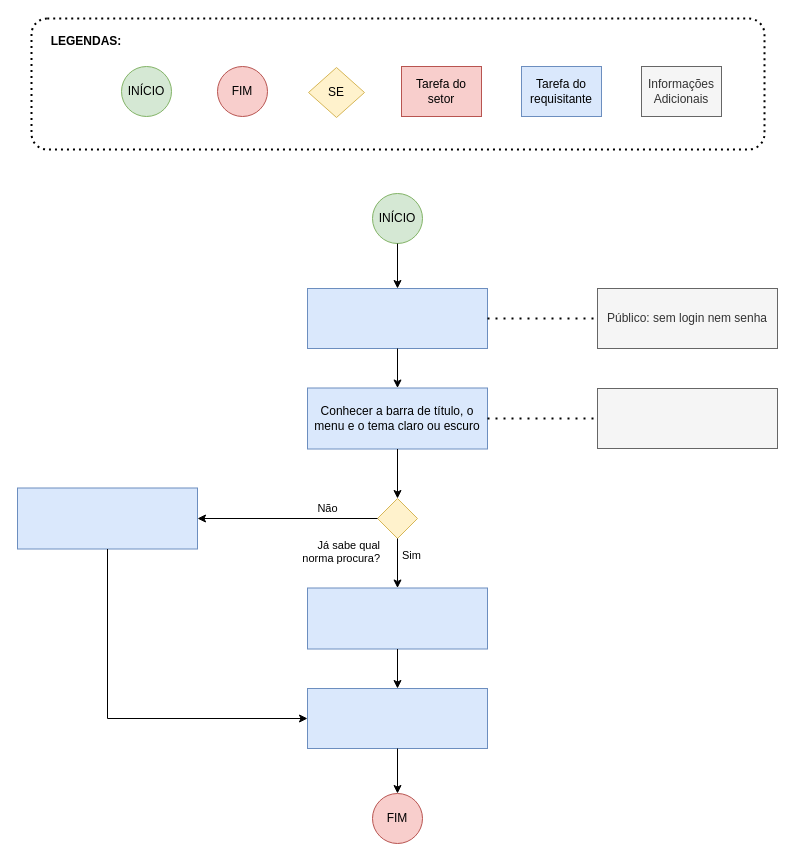
This 795x861 diagram has some shape labels left out. The shapes that lost their labels are listed below. From the top down, each one's centre as x and y in pixels, then its label:
At point (397, 318): "Acessar o Farol Normativo no navegador".
At point (687, 418): "A escolha do tema fica guardada no navegador".
At point (107, 518): "Abrir um dos oito exemplos da página inicial".
At point (397, 618): "Buscar pelo número, pelo assunto ou pelo órgão (FAROL02)".
At point (397, 718): "Consultar os símbolos e as cores na página Sobre".
